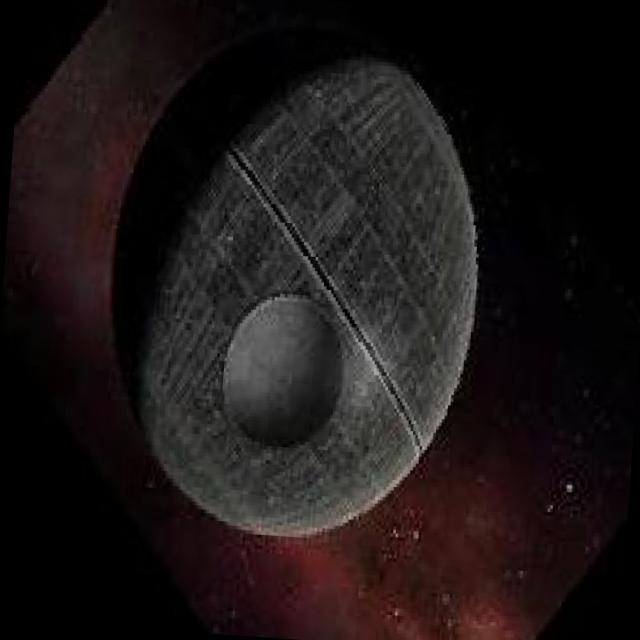Death Star: (85, 20, 507, 562)
